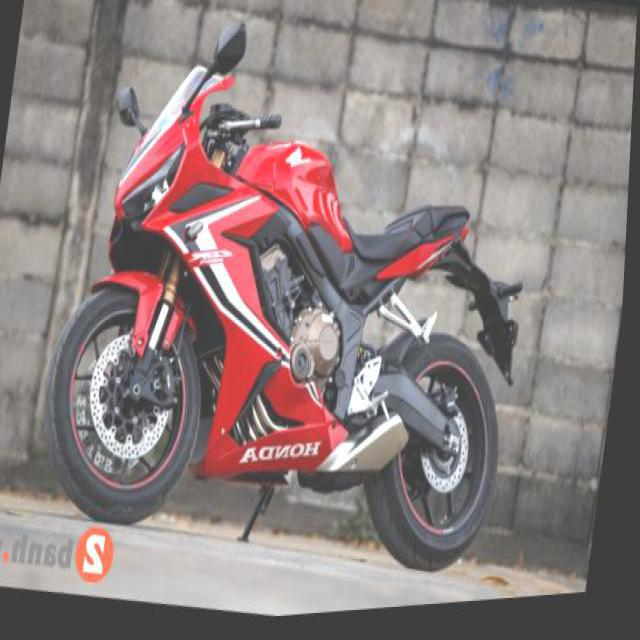CBR650R: (28, 0, 563, 603)
